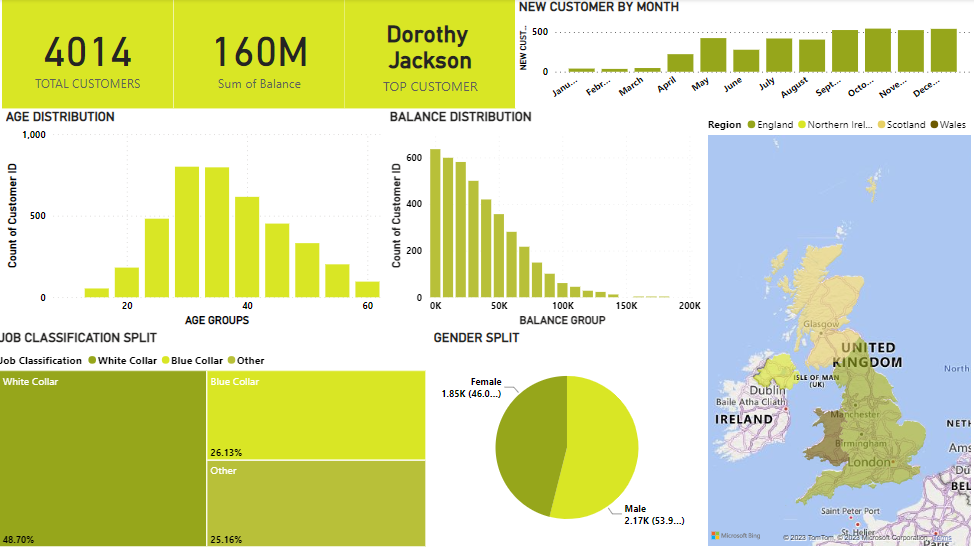

Layout of this report page (visuals, bound fields, positions):
{"tool":"powerbi","page":{"name":"Page 1","canvas":[1280,720],"ordinal":0},"visuals":[{"type":"card","fields":{"Values":["Bank Data.Customer ID"]},"box":[9.6,0,224.3,143.1],"z":0},{"type":"card","fields":{"Values":["Bank Data.Balance"]},"box":[233.5,0,223.4,142.8],"z":1000},{"type":"card","fields":{"Values":["Bank Data.Customer Name"]},"box":[456.9,0,223,143.1],"z":2000},{"type":"clusteredColumnChart","title":"NEW CUSTOMER BY MONTH","fields":{"Category":["Bank Data.Date Joined.Variation.Date Hierarchy.Month","Bank Data.Date Joined.Variation.Date Hierarchy.Day"],"Y":["Bank Data.Customer ID"]},"box":[679.9,0,600.1,143.1],"z":3000},{"type":"filledMap","title":"REGION","fields":{"Category":["Bank Data.Region"],"Series":["Bank Data.Region"]},"box":[926.3,143.1,353.7,576.7],"z":4000},{"type":"pieChart","title":"GENDER SPLIT","fields":{"Category":["Bank Data.Gender"],"Y":["Bank Data.Customer ID"]},"box":[568.4,432.2,357.8,287.7],"z":5000},{"type":"treemap","title":"JOB CLASSIFICATION SPLIT","fields":{"Group":["Bank Data.Job Classification"],"Values":["Bank Data.Customer ID"]},"box":[0,432.2,568.4,287.7],"z":6000},{"type":"clusteredColumnChart","title":"AGE DISTRIBUTION","fields":{"Y":["Bank Data.Customer ID"],"Category":["Bank Data.AGE GROUPS"]},"box":[9.6,143.1,499.6,289],"z":7000},{"type":"clusteredColumnChart","title":"BALANCE DISTRIBUTION","fields":{"Category":["Bank Data.BALANCE GROUP"],"Y":["Bank Data.Customer ID"]},"box":[510.6,143.1,415.7,289],"z":8000}]}

Visuals, with their boxes in screenshot pixels (x1, y1, x2, y2), scaled from the page's 1280x720 canvas onto the 974x550 screenshot:
card - Bank Data.Customer ID: [7,0,178,109]
card - Bank Data.Balance: [178,0,348,109]
card - Bank Data.Customer Name: [348,0,517,109]
"NEW CUSTOMER BY MONTH" clusteredColumnChart: [517,0,973,109]
"REGION" filledMap: [705,109,973,549]
"GENDER SPLIT" pieChart: [433,330,705,549]
"JOB CLASSIFICATION SPLIT" treemap: [0,330,433,549]
"AGE DISTRIBUTION" clusteredColumnChart: [7,109,387,330]
"BALANCE DISTRIBUTION" clusteredColumnChart: [389,109,705,330]
